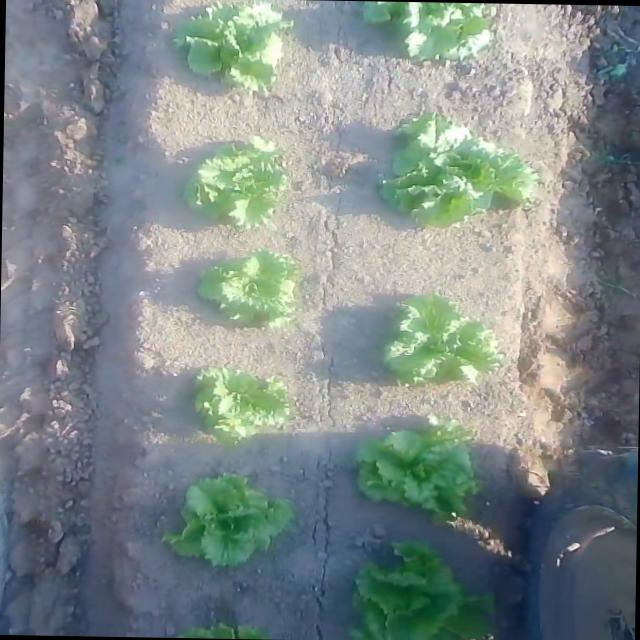Lettuce-Ready-to-Harvest: (342, 533, 499, 640), (330, 423, 484, 508), (150, 472, 288, 566), (369, 302, 506, 392), (186, 240, 317, 334)
